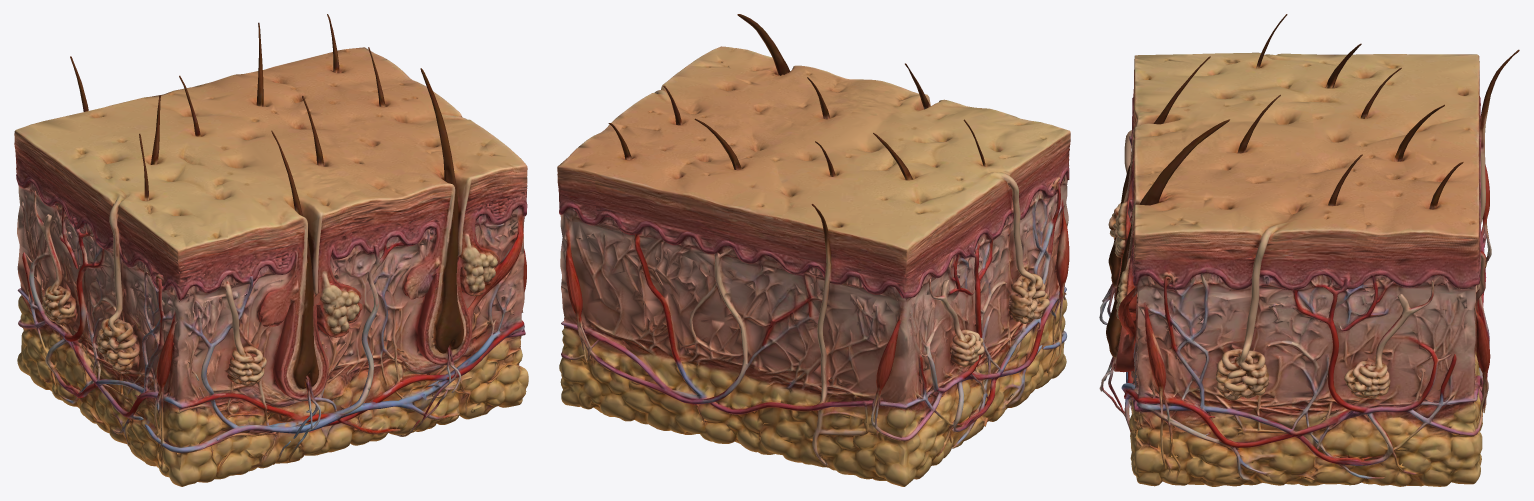
The model's file is skin.glb.
The picture shows the model from 3 angles, left to right: view 1: azimuth 30°, elevation 25°; view 2: azimuth 150°, elevation 25°; view 3: azimuth 270°, elevation 25°; orthographic projection. The views are drawn at different scales.
Visible parts, largest first — view 1: tripo_node_e5876caf-7f3d-4121-9468-4d7c567ae73f; view 2: tripo_node_e5876caf-7f3d-4121-9468-4d7c567ae73f; view 3: tripo_node_e5876caf-7f3d-4121-9468-4d7c567ae73f.
Part boxes in pixels (x1,y1,x2,y2): tripo_node_e5876caf-7f3d-4121-9468-4d7c567ae73f: (14, 14, 528, 486); tripo_node_e5876caf-7f3d-4121-9468-4d7c567ae73f: (557, 14, 1070, 486); tripo_node_e5876caf-7f3d-4121-9468-4d7c567ae73f: (1099, 14, 1519, 486).
Size of the model in its own units: 0.9793 by 0.7733 by 0.8528.
Materials: 1 (1 with a texture image).
